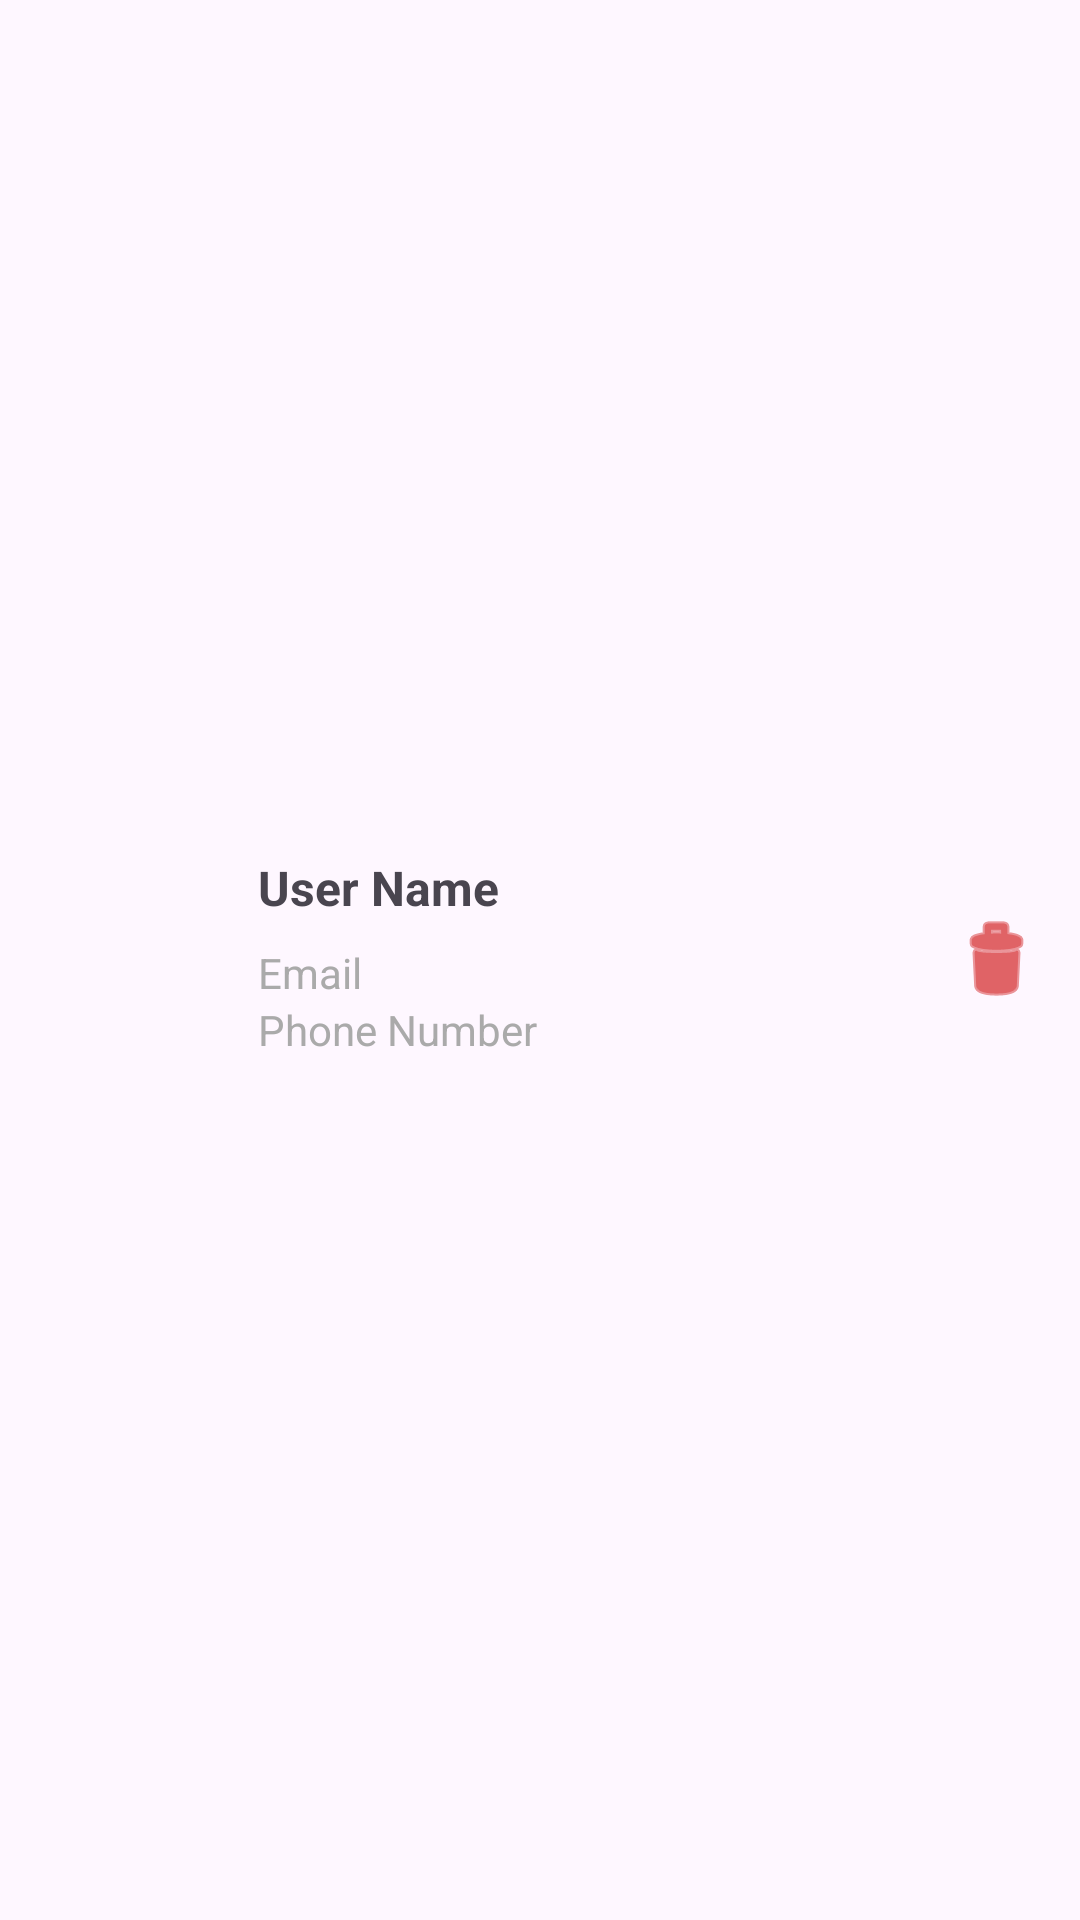

Screen size 1080px×1920px. Icon name, then its box in pixels as (x1, y1, x2, y2):
delete: (969, 921, 1024, 996)
